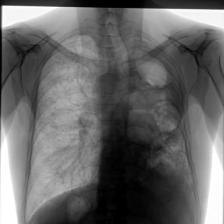tuberculosis: (18, 32, 203, 224)
